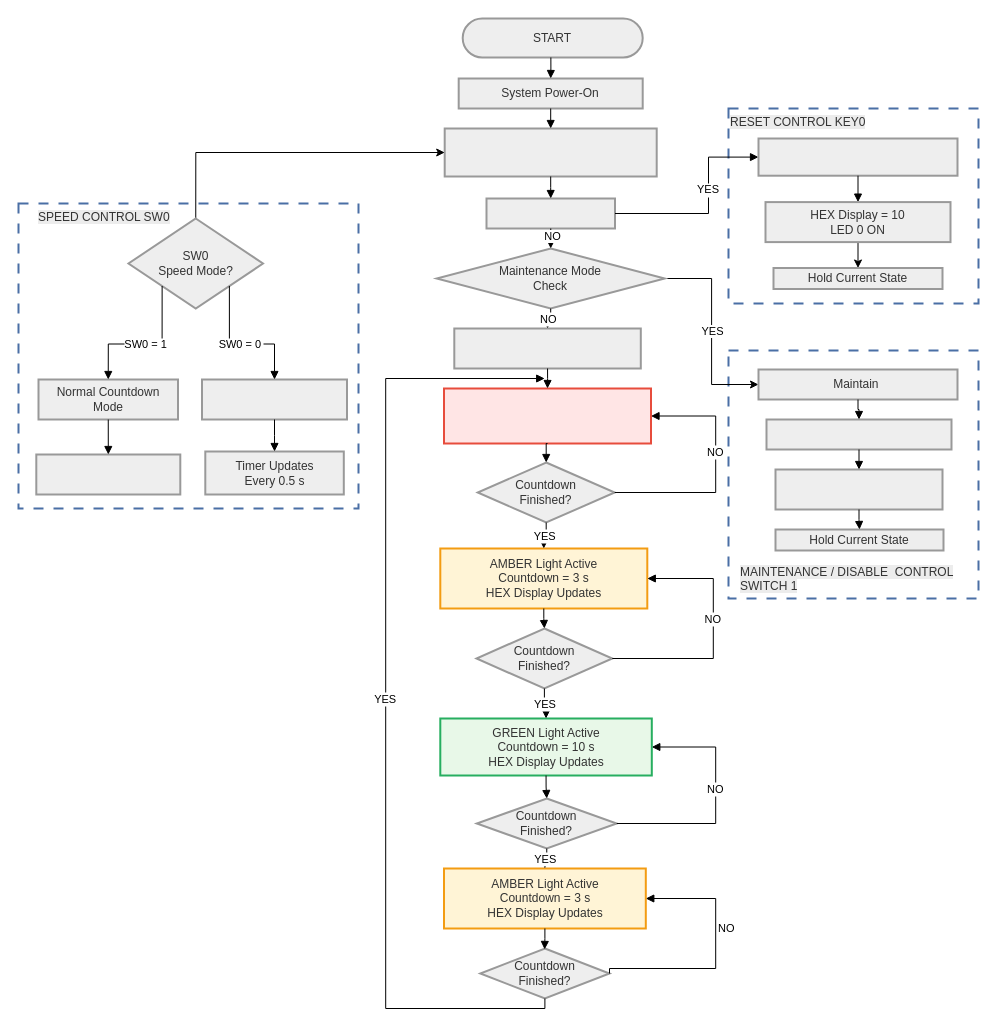
The diagram is 996 pixels wide and 1034 high, and some of its shapes have lost their labels. The shapes that lost their labels are listed below. From the top down, each one's centre as x and y in pixels, then its label:
[550,152]: Clock Divider （50 MHz -1 Hz / Fast Clock）
[857,156]: Reset Function Blocks
[550,213]: Reset Check
[547,348]: Enter Traffic Light Control Loop
[274,399]: Fast Countdown Mode
[547,415]: RED Light Active Countdown = 10 s HEX Display Updates
[858,434]: HEX Displays = 00
[108,474]: Timer Updates Every 1 s
[858,489]: Red + Amber + Green LEDs ON
